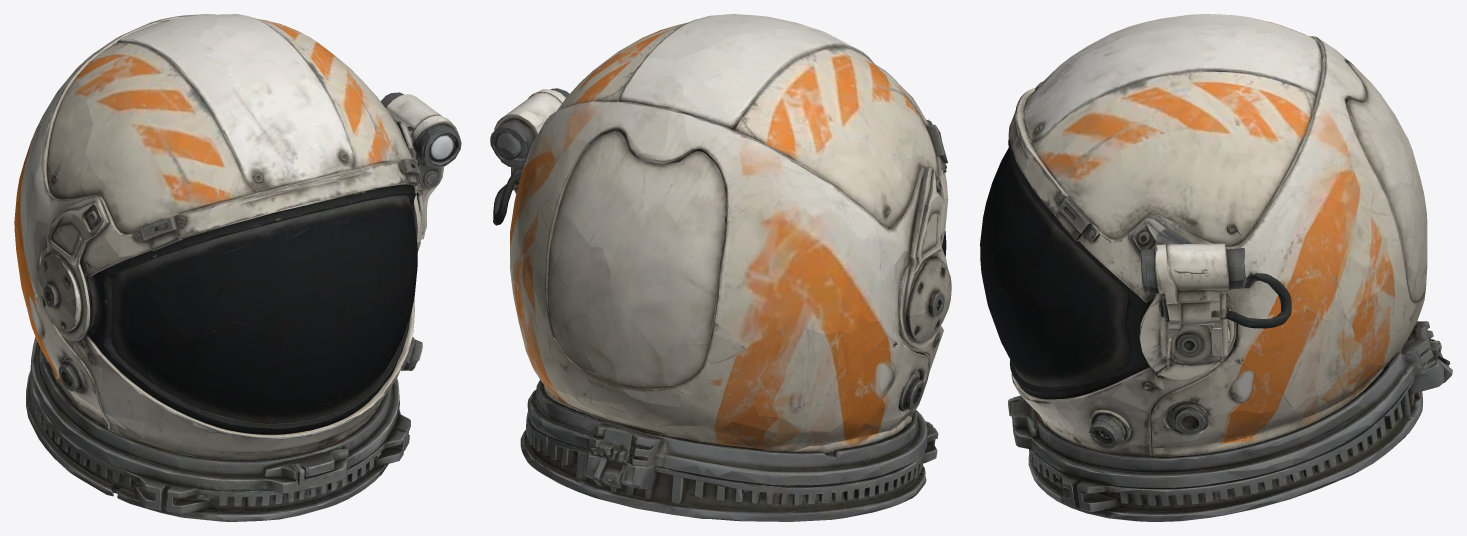
The model's file is helmet-meshy.glb.
The picture shows the model from 3 angles, left to right: view 1: azimuth 30°, elevation 25°; view 2: azimuth 150°, elevation 25°; view 3: azimuth 270°, elevation 25°; orthographic projection. The views are drawn at different scales.
Visible parts, largest first — view 1: Mesh_0; view 2: Mesh_0; view 3: Mesh_0.
Part boxes in pixels (x1,y1,x2,y2): Mesh_0: (14, 14, 461, 521); Mesh_0: (490, 14, 951, 521); Mesh_0: (980, 14, 1452, 521).
Size of the model in its own units: 1.88 by 1.9 by 1.88.
Materials: 1 (1 with a texture image).
